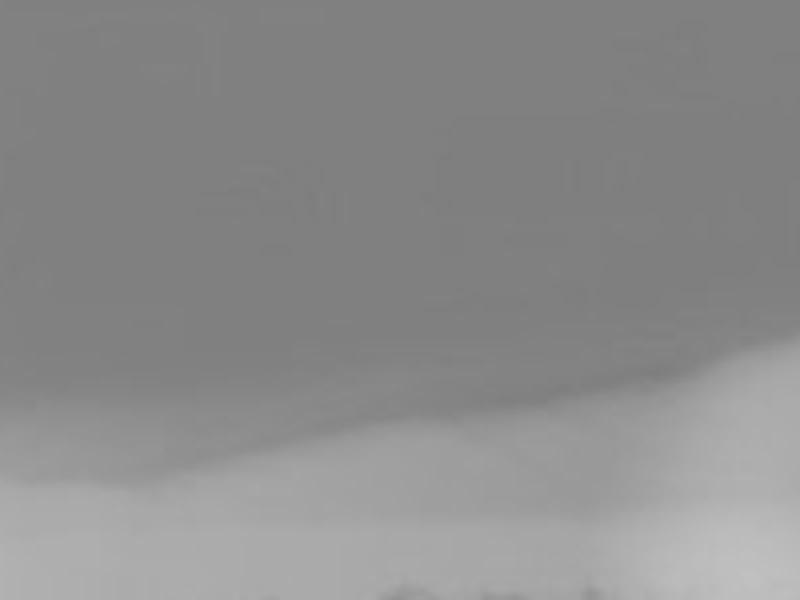defect: (381, 582, 444, 600), (578, 585, 605, 600), (480, 590, 528, 597)
